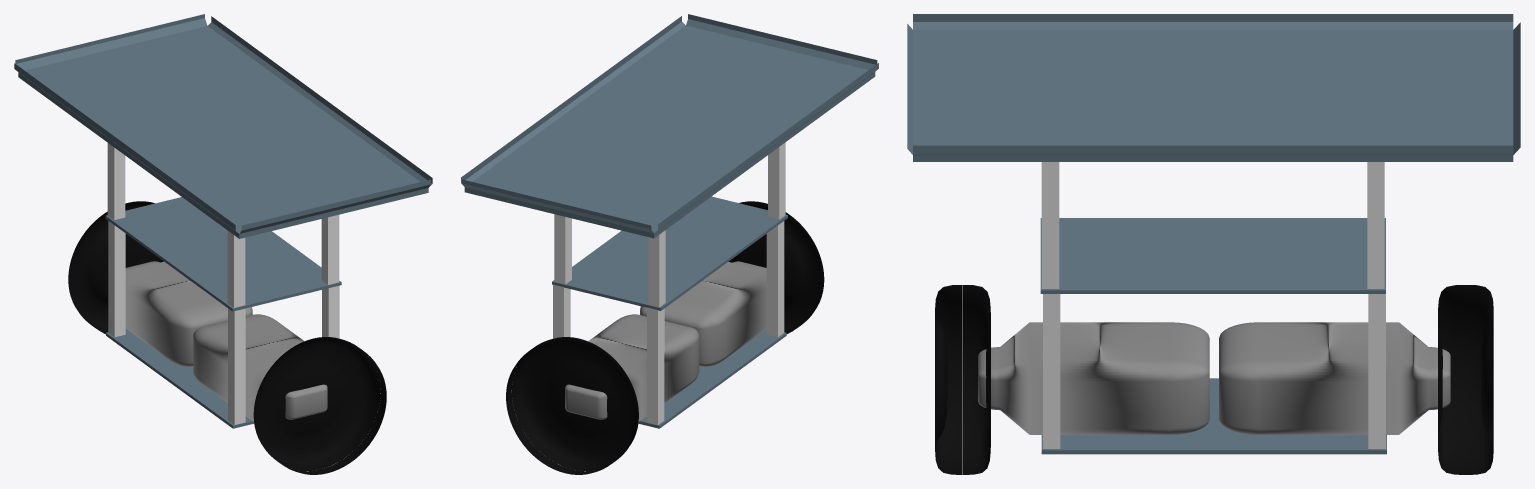
The model's file is our_capstone.glb.
3 renders of one model, left to right at view 1: azimuth 30°, elevation 25°; view 2: azimuth 150°, elevation 25°; view 3: azimuth 270°, elevation 25°, orthographic. The views are drawn at different scales.
Parts seen in each view (by area): view 1: Cube; view 2: Cube; view 3: Cube.
Boxes of the visible parts, x1,y1,x2,y2 form: Cube: (14,14,432,474); Cube: (461,14,878,474); Cube: (907,14,1520,474).
Size of the model in its own units: 4.94 by 6.78 by 9.82.
